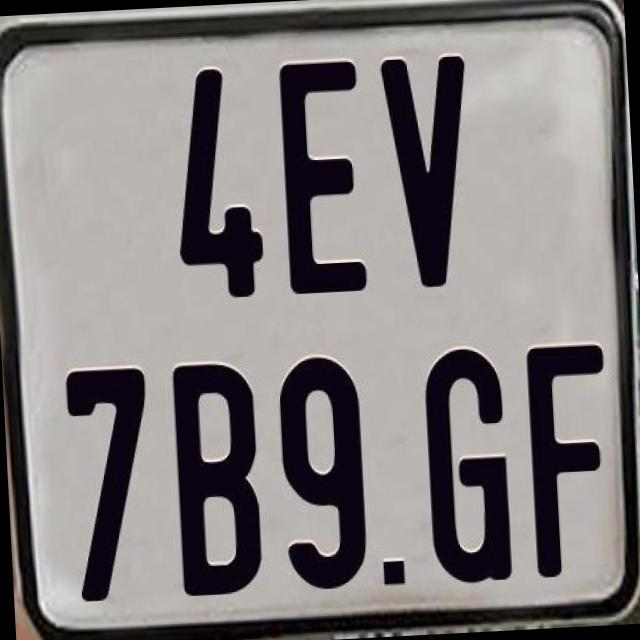4: (168, 62, 268, 298)
7: (61, 363, 156, 598)
9: (276, 350, 372, 586)
B: (168, 360, 264, 598)
E: (277, 58, 375, 293)
F: (524, 343, 614, 580)
G: (419, 346, 517, 583)
V: (380, 52, 480, 286)
